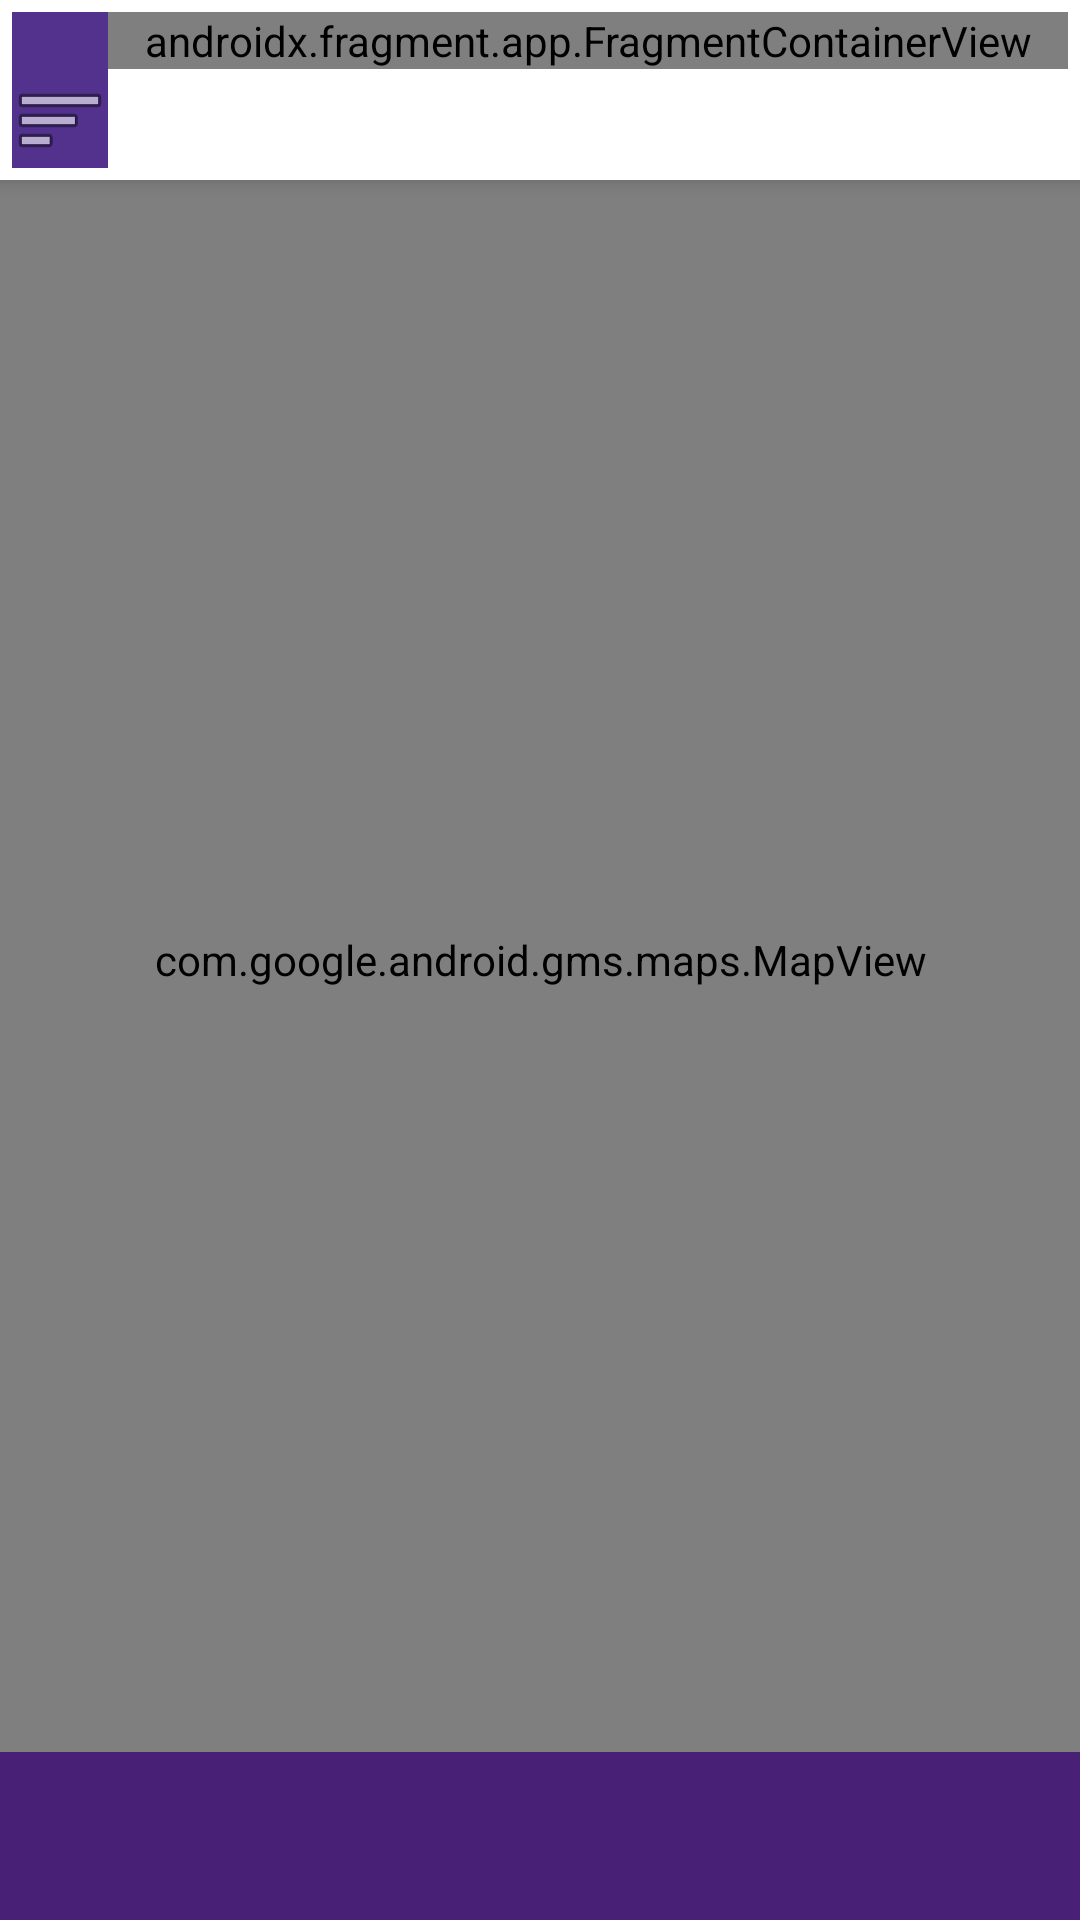

Icon bounding boxes for this 1080px×1920px phone screenshot, format region(x1, y1, x2, y2):
Filter: region(12, 12, 108, 168)
